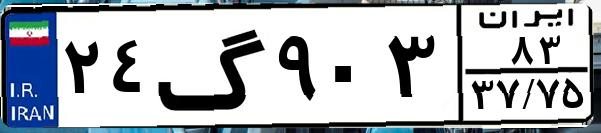0: (330, 28, 385, 110)
2: (57, 26, 110, 100)
3: (385, 28, 445, 110), (537, 27, 568, 80), (470, 70, 495, 125)
4: (110, 28, 156, 98)
5: (560, 70, 590, 125)
7: (495, 70, 520, 125), (535, 70, 560, 125)
8: (508, 27, 537, 80)
9: (270, 28, 330, 110)
گ: (156, 12, 270, 120)
